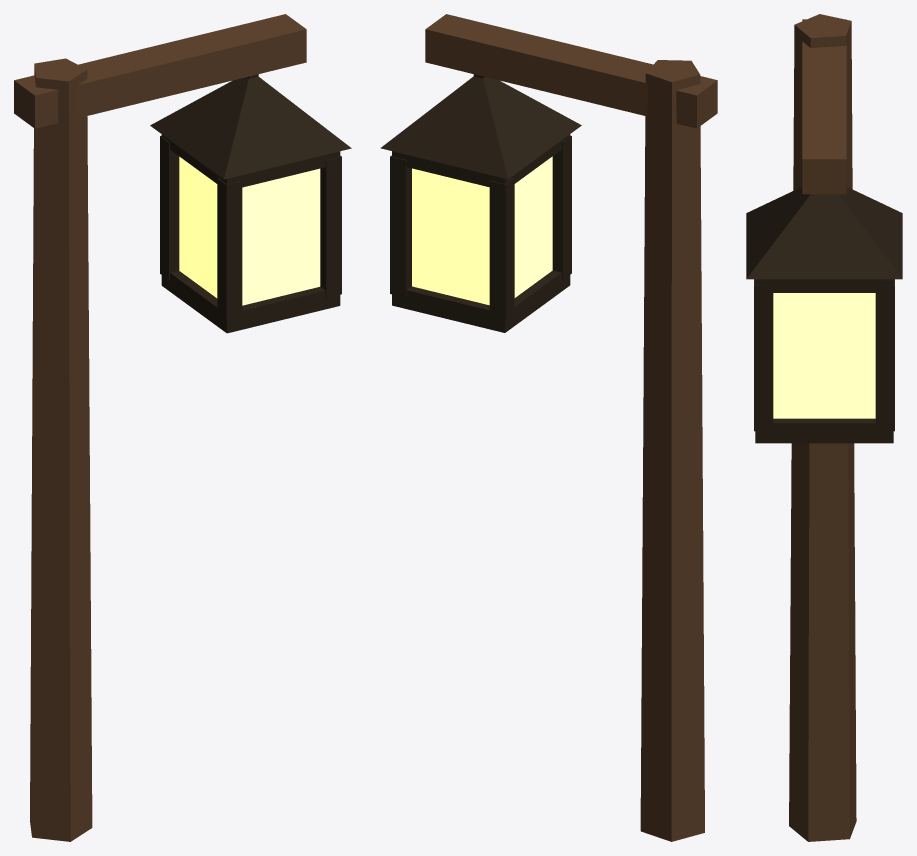
File: deco_lantern.glb
3 renders of one model, left to right at view 1: azimuth 30°, elevation 25°; view 2: azimuth 150°, elevation 25°; view 3: azimuth 270°, elevation 25°, orthographic. The views are drawn at different scales.
Visible parts, largest first — view 1: deco_lantern_mesh; view 2: deco_lantern_mesh; view 3: deco_lantern_mesh.
Boxes of the visible parts, left/top/right/bottom form: deco_lantern_mesh: left=14, top=14, right=351, bottom=841; deco_lantern_mesh: left=380, top=14, right=717, bottom=841; deco_lantern_mesh: left=746, top=14, right=902, bottom=841.
Bounding box in the file's own units: 0.1283 × 0.32 × 0.0566.
